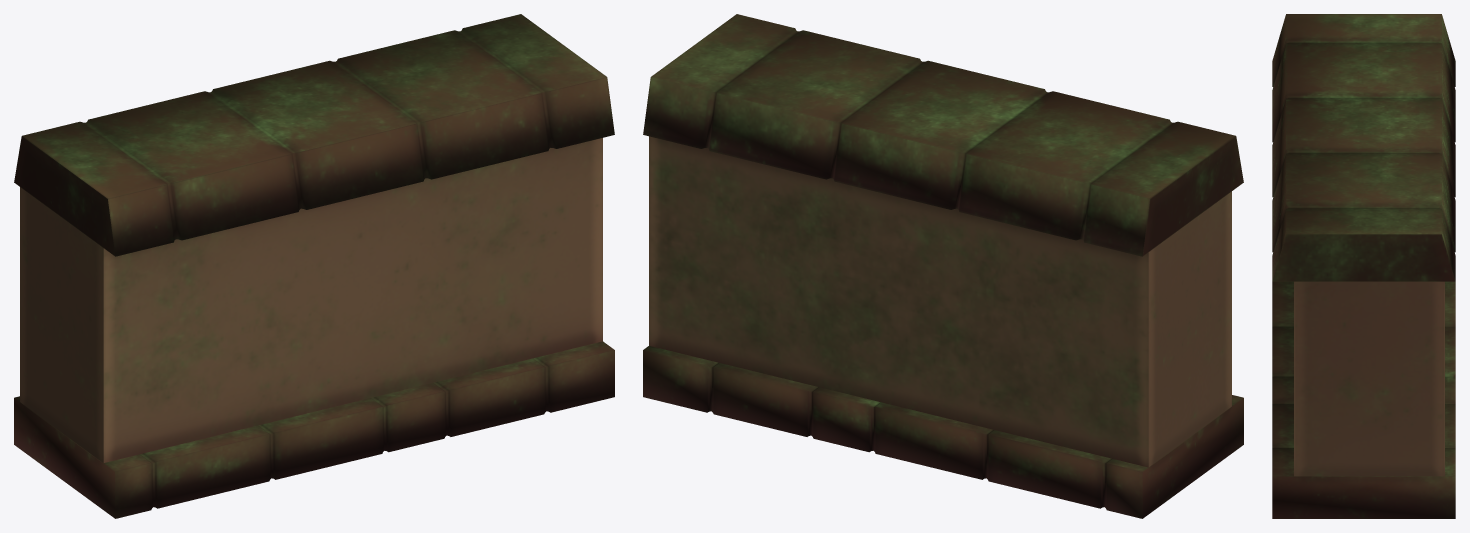
The model's file is ParedPequeña.fbx.
The picture shows the model from 3 angles, left to right: view 1: azimuth 30°, elevation 25°; view 2: azimuth 150°, elevation 25°; view 3: azimuth 270°, elevation 25°; orthographic projection. The views are drawn at different scales.
Parts seen in each view (by area): view 1: Small_Wall.009; view 2: Small_Wall.009; view 3: Small_Wall.009.
Boxes of the visible parts, x1,y1,x2,y2 form: Small_Wall.009: [14, 14, 614, 518]; Small_Wall.009: [643, 14, 1243, 518]; Small_Wall.009: [1272, 14, 1455, 518].
Size of the model in its own units: 4 by 2.41 by 1.41.
